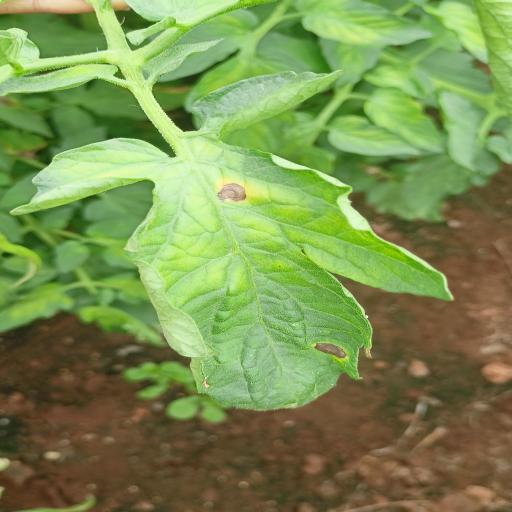disease_tomato: (10, 133, 460, 415)
